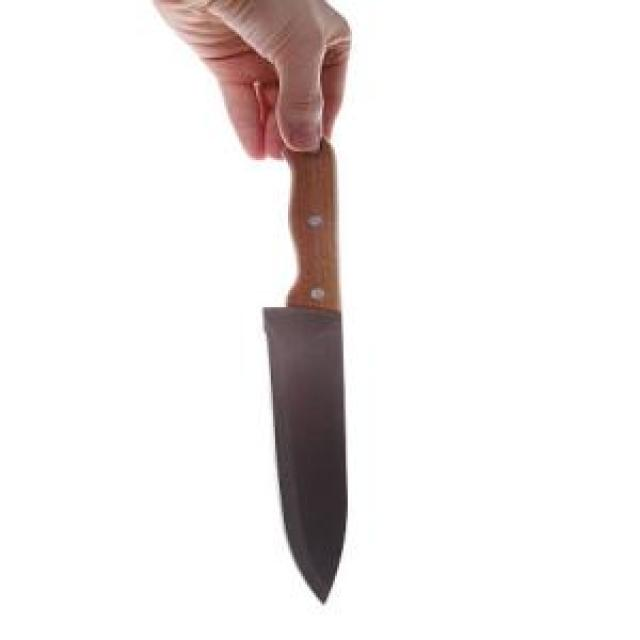knife: (168, 39, 431, 616)
